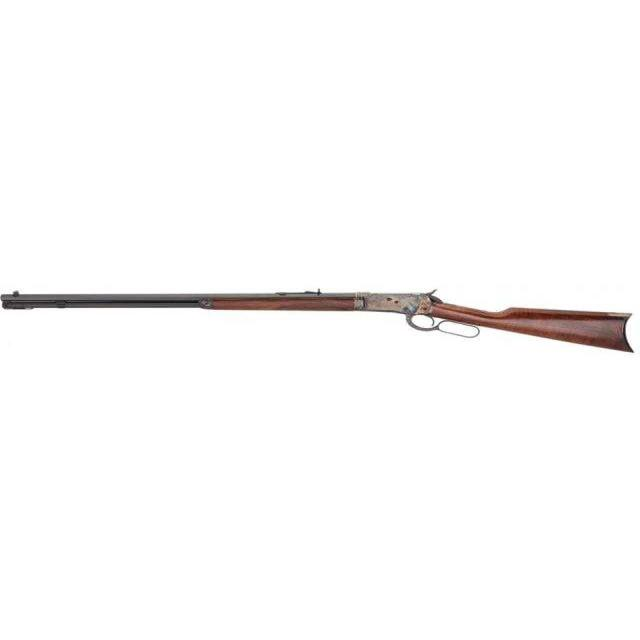heavyweapon: (1, 262, 640, 396)
